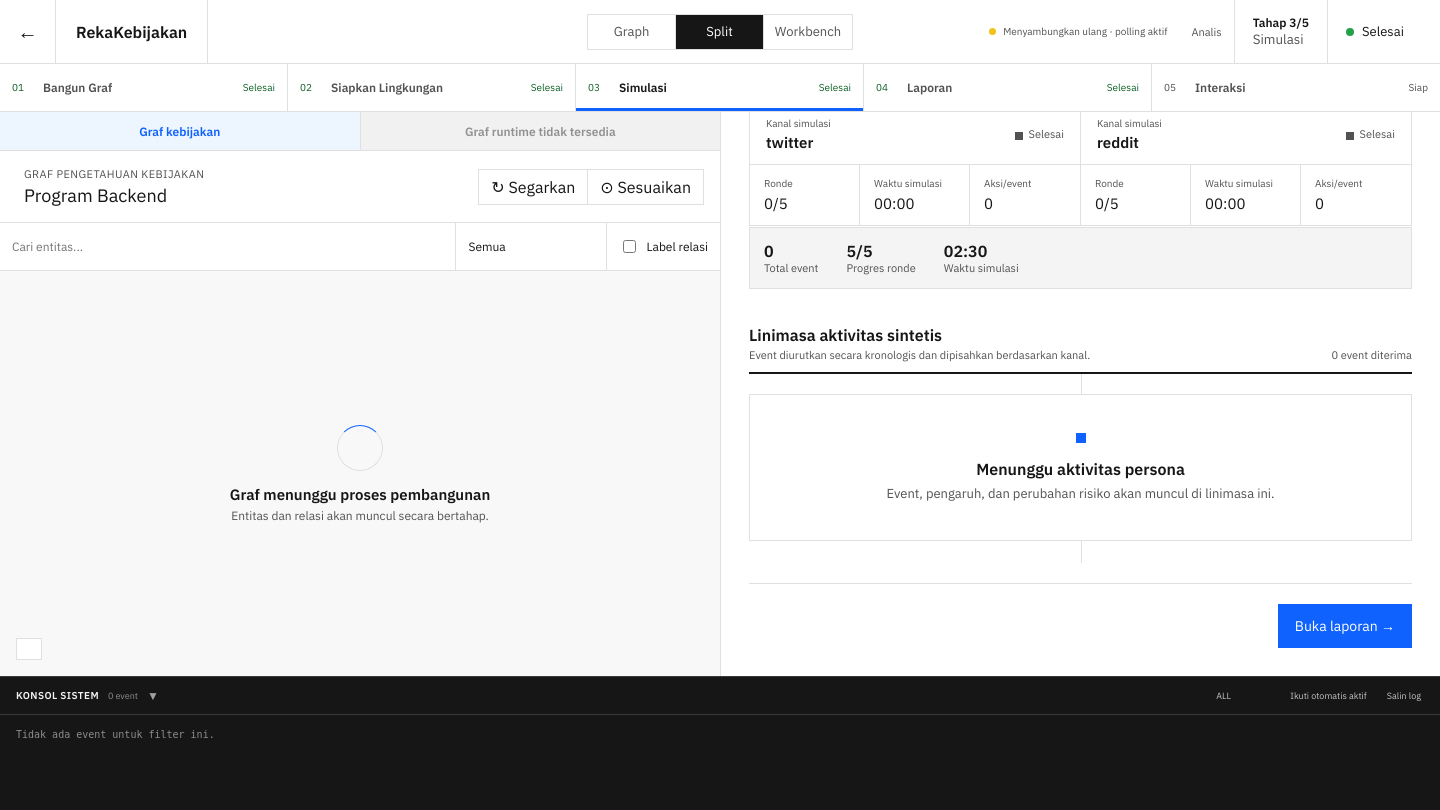
Test: SimulationWorkflowPage live mode › shows a Report navigation button when the simulation is completed
(page scrolled)
Click the button "Buka laporan →". click: coordinates (1345, 626)
box: [1278, 604, 1412, 648]
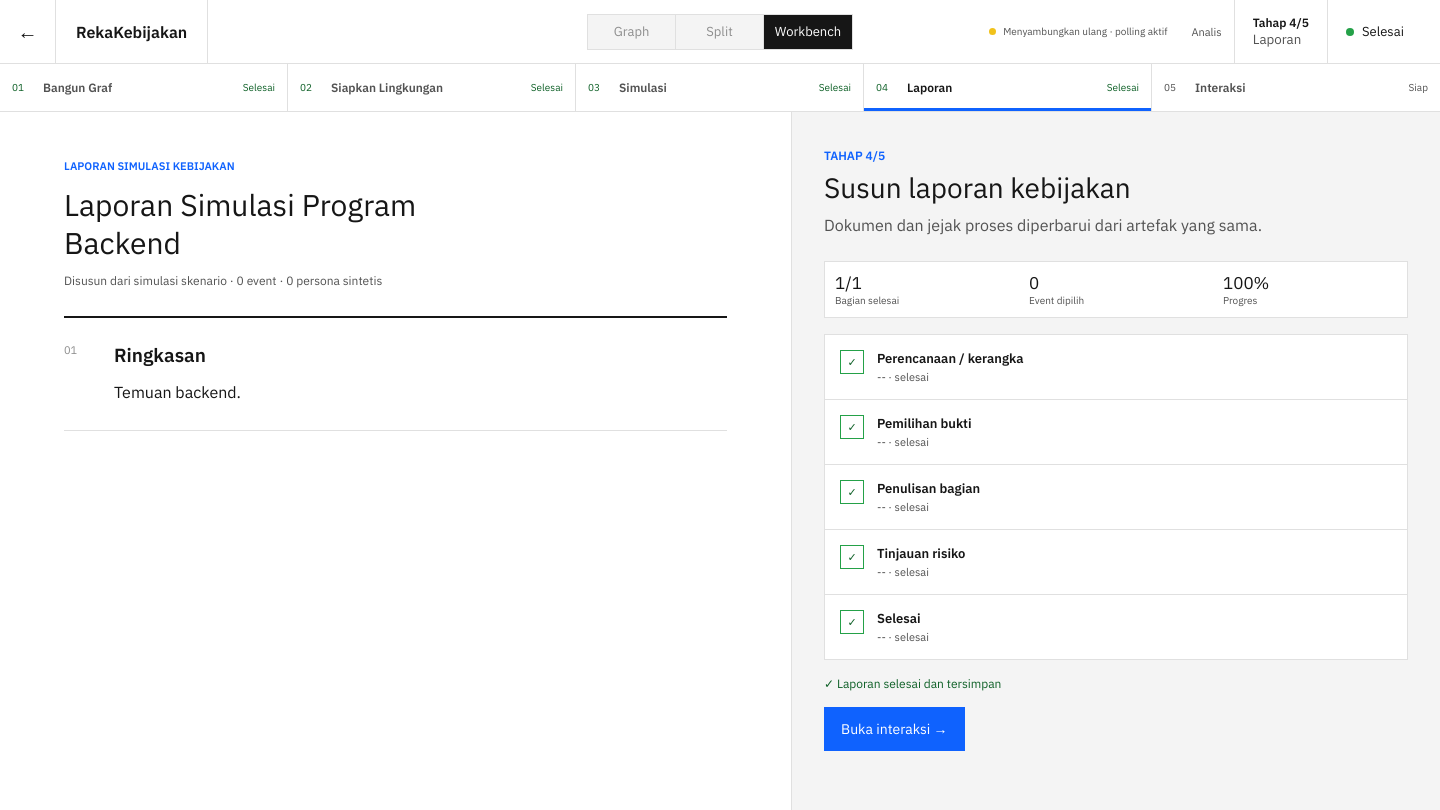
expect the heading "Susun laporan kebijakan" is shown: met, box [824, 169, 1131, 206]
